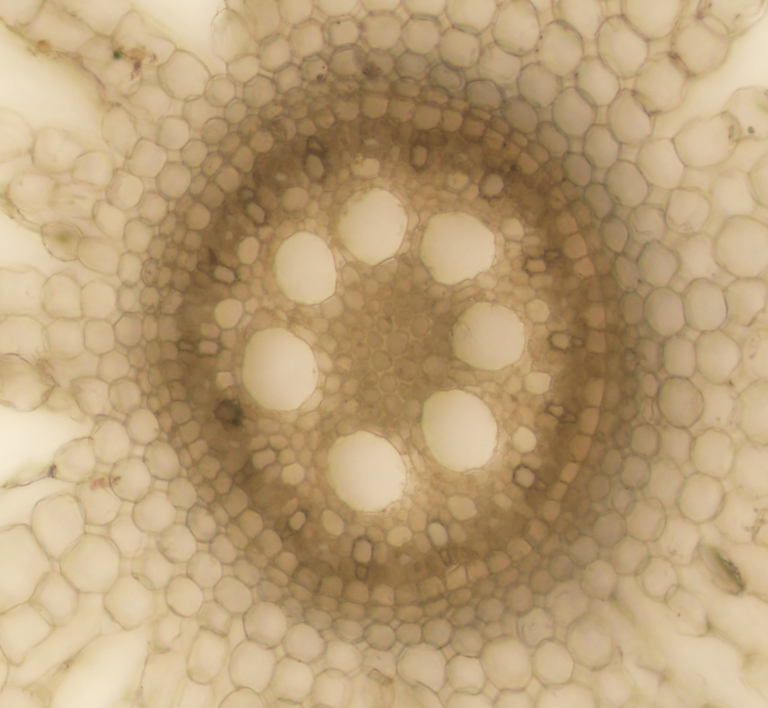lm: (325, 429, 407, 513), (242, 325, 318, 412), (419, 389, 498, 470), (418, 211, 496, 284), (447, 301, 527, 370), (337, 187, 407, 264), (274, 229, 337, 304)
